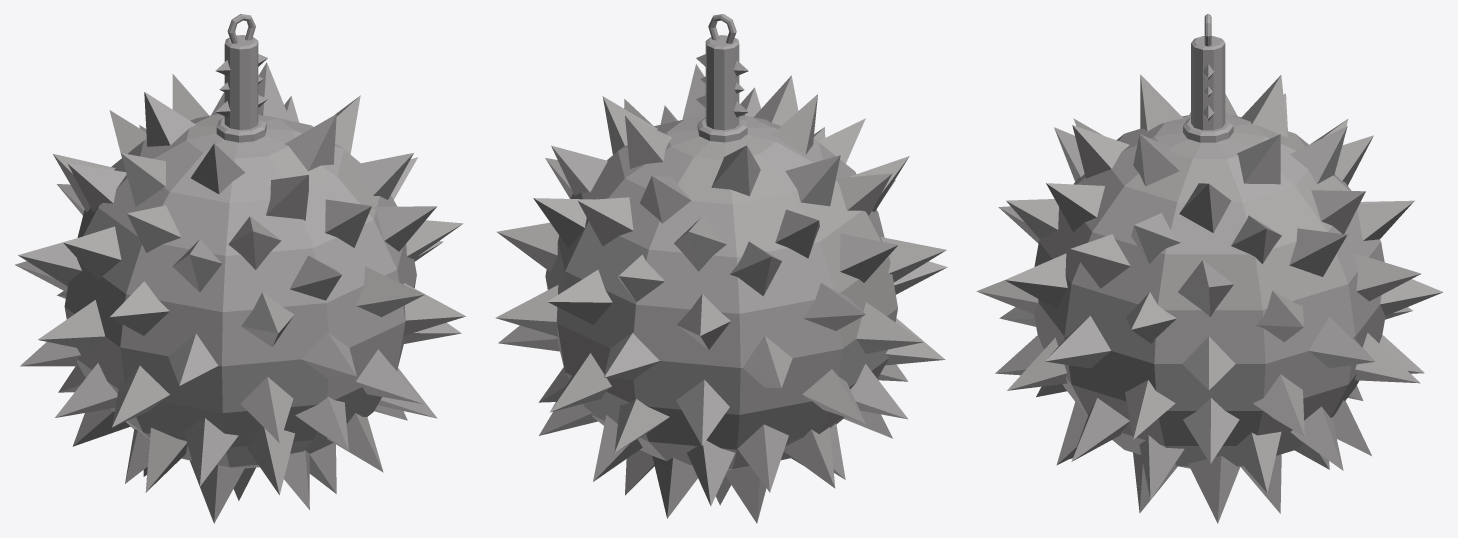
File: MetalPendulumTrap_13.fbx
The picture shows the model from 3 angles, left to right: view 1: azimuth 30°, elevation 25°; view 2: azimuth 150°, elevation 25°; view 3: azimuth 270°, elevation 25°; orthographic projection.
Visible parts, largest first — view 1: MetalPendulumTrap_13; view 2: MetalPendulumTrap_13; view 3: MetalPendulumTrap_13.
Part boxes in pixels (<box>): MetalPendulumTrap_13: <box>15,14,465,523</box>; MetalPendulumTrap_13: <box>495,14,947,523</box>; MetalPendulumTrap_13: <box>976,14,1443,523</box>.
Size of the model in its own units: 132 by 152 by 132.
